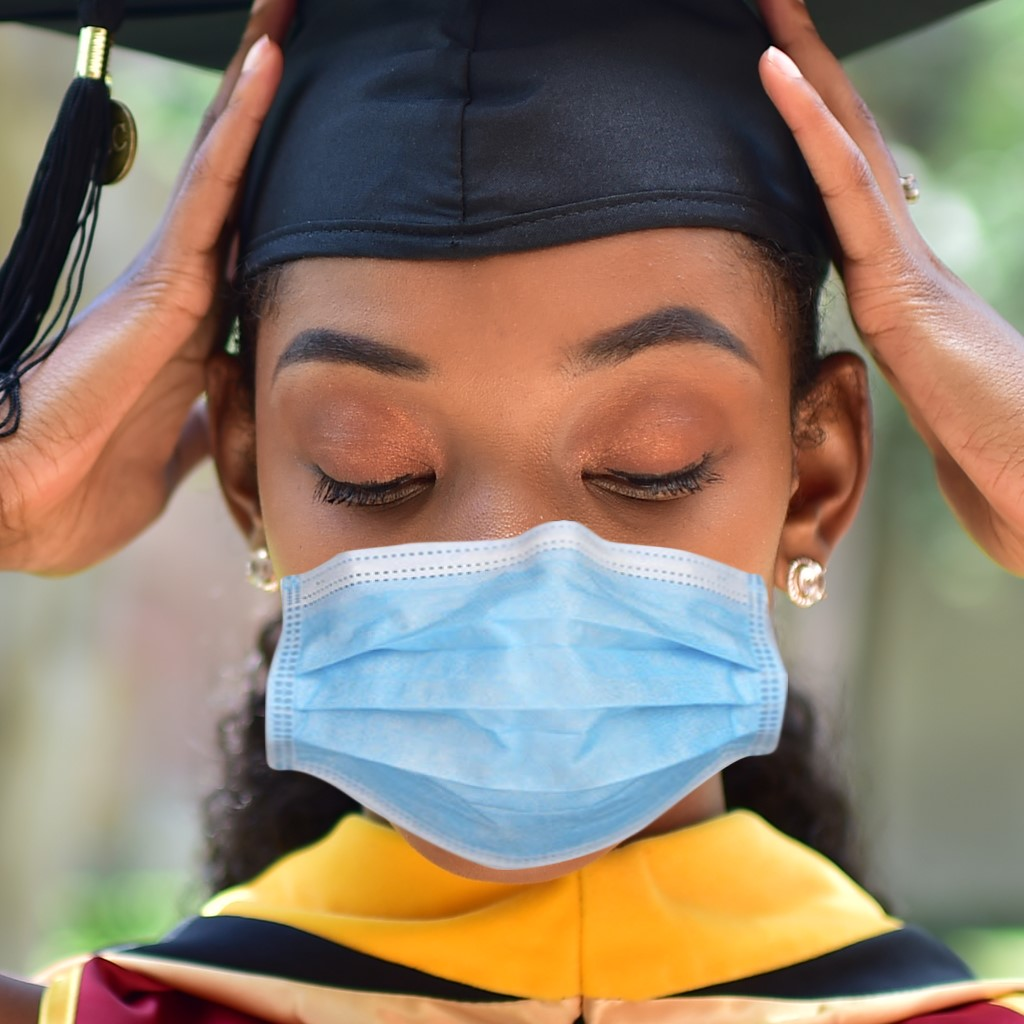con_mascara: (234, 218, 797, 840)
